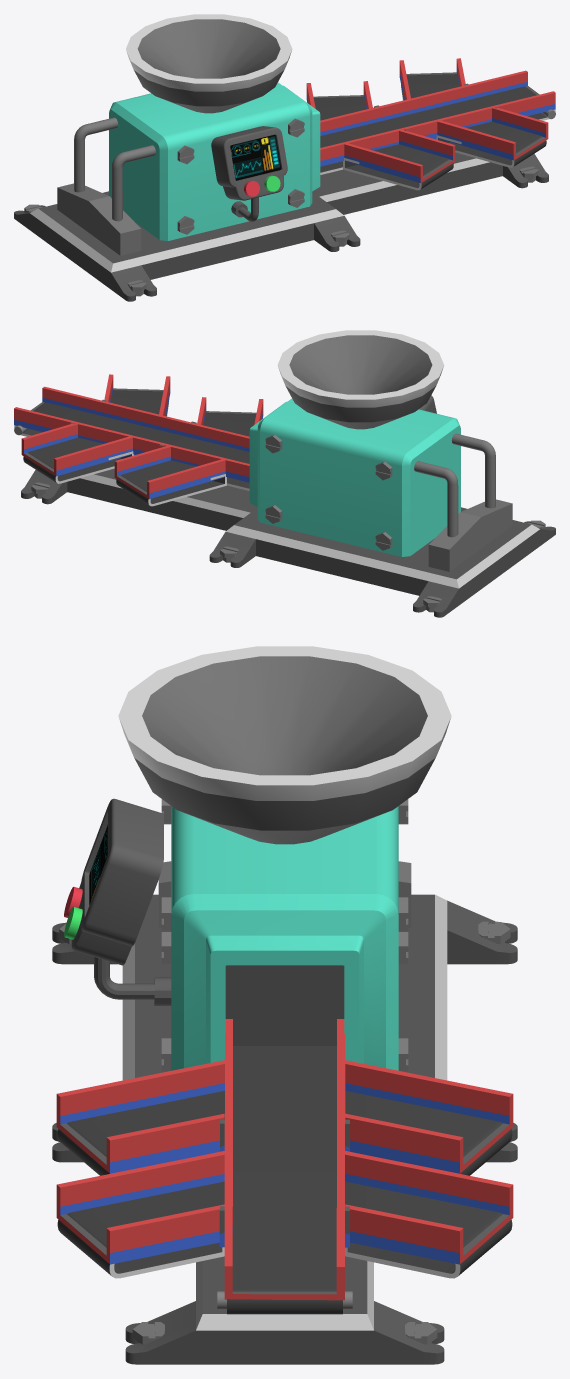
The model's file is ayrictiriciMakina.fbx.
The picture shows the model from 3 angles, top to bottom: view 1: azimuth 30°, elevation 25°; view 2: azimuth 150°, elevation 25°; view 3: azimuth 270°, elevation 25°; orthographic projection. The views are drawn at different scales.
Parts seen in each view (by area): view 1: govde.001, ustHuni.001, makinaAlt.003, uzunRay.002, borular.003, ekran.002, makinaAlt.004, kizak1.001, ayak.003, ray2.002, ray5.001, kizak4.001 (+7 smaller); view 2: govde.001, ustHuni.001, makinaAlt.003, uzunRay.002, borular.003, makinaAlt.004, kizak1.001, ayak.003, ray3.002, ray4.001, kizak5.002, kizak3.001 (+6 smaller); view 3: govde.001, ustHuni.001, kizak1.001, makinaAlt.003, ekran.002, makinaAlt.004, ray4.001, ray5.001, ray2.002, ray3.002, ayak.004, uzunRay.002 (+7 smaller).
Part boxes in pixels (box(x1,y1,x2,y2)): govde.001: box(109, 82, 320, 240); ustHuni.001: box(126, 14, 292, 113); makinaAlt.003: box(29, 191, 343, 289); uzunRay.002: box(320, 70, 555, 166); borular.003: box(57, 117, 155, 255); ekran.002: box(211, 126, 287, 221); makinaAlt.004: box(312, 152, 502, 214); kizak1.001: box(320, 86, 555, 174); ayak.003: box(14, 204, 360, 301); ray2.002: box(344, 130, 455, 182); ray5.001: box(437, 108, 548, 160); kizak4.001: box(343, 144, 453, 190); govde.001: box(249, 398, 460, 556); ustHuni.001: box(277, 330, 443, 429); makinaAlt.003: box(226, 507, 540, 605); uzunRay.002: box(14, 386, 249, 482); borular.003: box(414, 433, 512, 571); makinaAlt.004: box(67, 468, 257, 530); kizak1.001: box(14, 402, 249, 490); ayak.003: box(209, 520, 555, 617); ray3.002: box(114, 446, 225, 499); ray4.001: box(21, 423, 132, 476); kizak5.002: box(116, 460, 226, 506); kizak3.001: box(23, 437, 133, 483); govde.001: box(171, 806, 398, 1070); ustHuni.001: box(118, 646, 451, 844); kizak1.001: box(227, 1046, 342, 1314); makinaAlt.003: box(122, 894, 447, 1080); ekran.002: box(71, 798, 171, 1005); makinaAlt.004: box(196, 1256, 373, 1364); ray4.001: box(345, 1151, 513, 1264); ray5.001: box(56, 1151, 224, 1264); ray2.002: box(56, 1060, 224, 1173); ray3.002: box(345, 1060, 513, 1173); ayak.004: box(125, 1301, 444, 1364); uzunRay.002: box(219, 1019, 349, 1300).
Bounding box in the file's own units: 3095 × 1112 × 1325.
